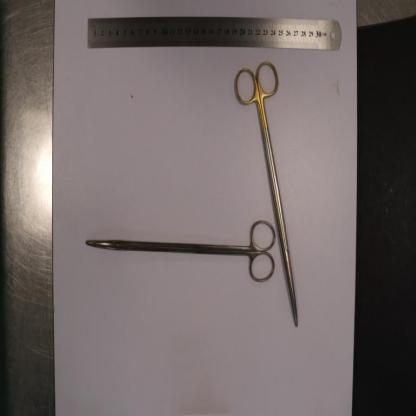7 Metzenbaum Scissors: (234, 58, 298, 328)
9 Metzenbaum Scissors: (86, 218, 276, 283)
